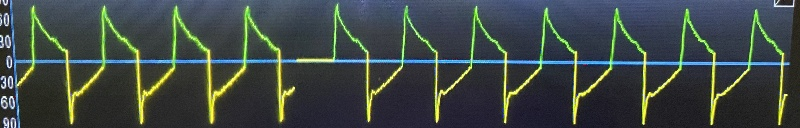peepi: (16, 0, 794, 128)
